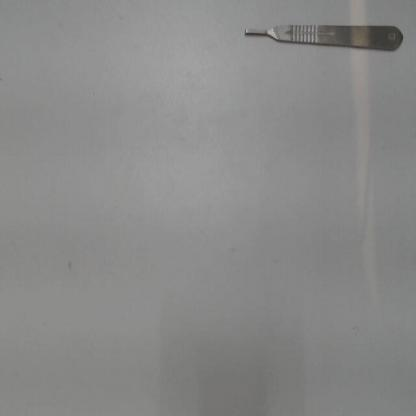No.3 BP Handle: (238, 18, 408, 59)
